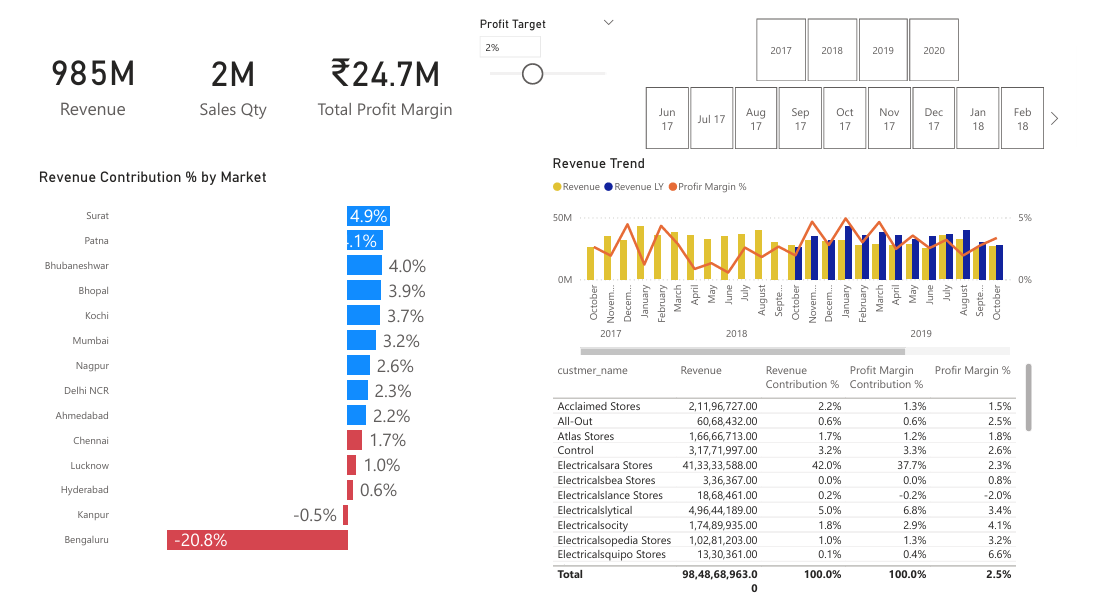

The dashboard page shown, as its layout file describes it:
{"tool":"powerbi","page":{"name":"Performance Insights","canvas":[1280,720],"ordinal":2},"visuals":[{"type":"card","fields":{"Values":["BaseMeasures.Revenue"]},"box":[0,0,178.8,165.2],"z":0},{"type":"card","fields":{"Values":["BaseMeasures.Sales Qty"]},"box":[166.7,0,184.8,165.2],"z":1000},{"type":"slicer","fields":{"Values":["sales date.year"]},"box":[866.7,0,295.7,89.9],"z":2000},{"type":"slicer","fields":{"Values":["sales date.cy_date"]},"box":[733.3,82.6,531.9,89.9],"z":3000},{"type":"tableEx","fields":{"Values":["sales customers.custmer_name","BaseMeasures.Revenue","BaseMeasures.Revenue Contribution %","BaseMeasures.Profit Margin Contribution %","BaseMeasures.Profir Margin %"]},"box":[640.6,418.8,591.3,291.3],"z":4000},{"type":"lineClusteredColumnComboChart","title":"Revenue Trend","fields":{"Category":["sales date.cy_date.Variation.Date Hierarchy.Year","sales date.cy_date.Variation.Date Hierarchy.Month"],"Y":["BaseMeasures.Revenue","BaseMeasures.Revenue LY"],"Y2":["BaseMeasures.Profir Margin %"]},"box":[640.6,172.5,591.3,246.4],"z":5000},{"type":"card","fields":{"Values":["BaseMeasures.Total Profit Margin"]},"box":[351.2,0,184.4,165.4],"z":6000},{"type":"barChart","title":"Revenue Contribution % by Market","fields":{"Y":["BaseMeasures.Profir Margin %"],"Category":["sales markets.zone","sales markets.markets_name","sales customers.custmer_name"]},"box":[18.8,188.4,479.7,479.7],"z":7000},{"type":"slicer","fields":{"Values":["Profit Target.Profit Target"]},"box":[544.9,0,188.4,165.2],"z":8000}]}

Visuals, with their boxes in screenshot pixels (x1, y1, x2, y2), scaled from the page's 1280x720 canvas onto the 1096x601 screenshot:
card - BaseMeasures.Revenue: [left=0, top=0, right=153, bottom=138]
card - BaseMeasures.Sales Qty: [left=143, top=0, right=301, bottom=138]
slicer - sales date.year: [left=742, top=0, right=995, bottom=75]
slicer - sales date.cy_date: [left=628, top=69, right=1083, bottom=144]
tableEx - sales customers.custmer_name x BaseMeasures.Revenue: [left=549, top=350, right=1055, bottom=593]
"Revenue Trend" lineClusteredColumnComboChart: [left=549, top=144, right=1055, bottom=350]
card - BaseMeasures.Total Profit Margin: [left=301, top=0, right=459, bottom=138]
"Revenue Contribution % by Market" barChart: [left=16, top=157, right=427, bottom=558]
slicer - Profit Target.Profit Target: [left=467, top=0, right=628, bottom=138]
